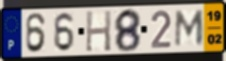2: (150, 9, 173, 50)
6: (52, 11, 75, 54), (24, 12, 47, 55)
8: (113, 7, 143, 54)
H: (85, 10, 113, 54)
M: (173, 9, 206, 48)
